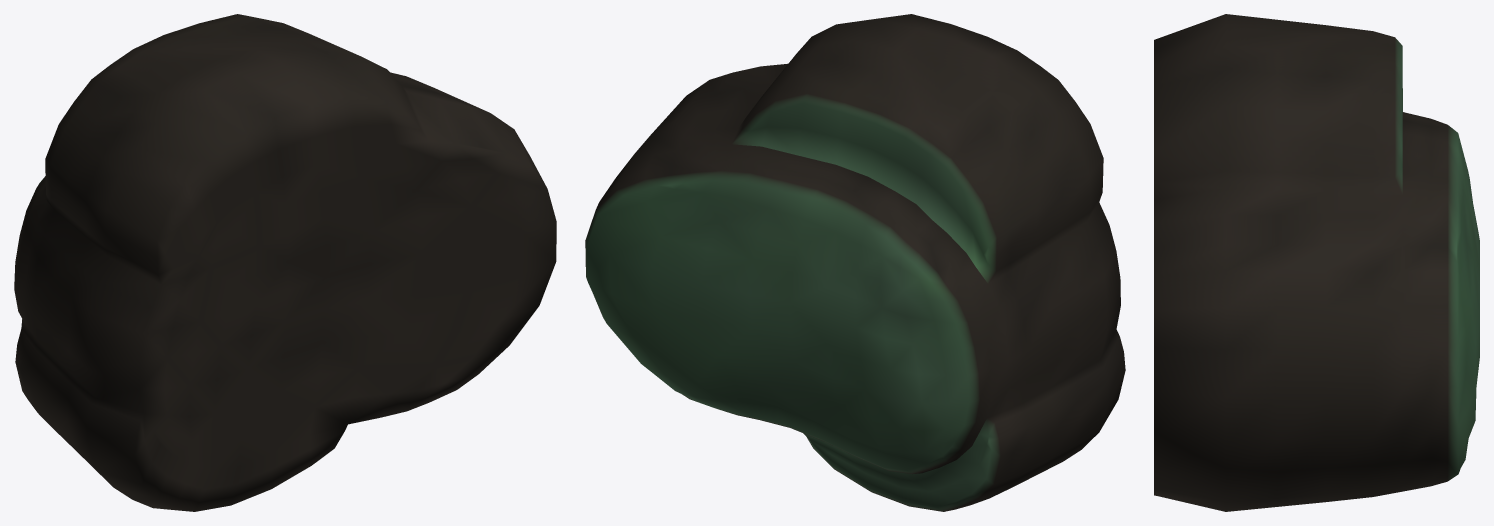
Rendered from GreenHillLarge.002.glb.
3 renders of one model, left to right at view 1: azimuth 30°, elevation 25°; view 2: azimuth 150°, elevation 25°; view 3: azimuth 270°, elevation 25°, orthographic. The views are drawn at different scales.
Parts seen in each view (by area): view 1: GreenHillLarge.002; view 2: GreenHillLarge.002; view 3: GreenHillLarge.002.
Boxes of the visible parts, x1,y1,x2,y2 form: GreenHillLarge.002: [14, 14, 556, 511]; GreenHillLarge.002: [585, 14, 1125, 511]; GreenHillLarge.002: [1154, 14, 1479, 511].
Bounding box in the file's own units: 3888 × 3444 × 2208.
